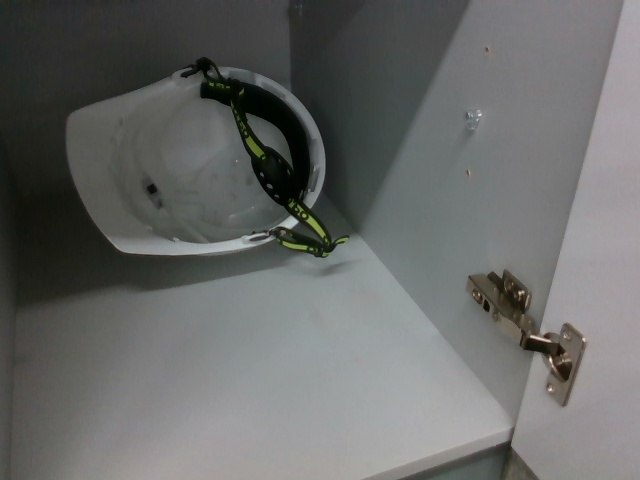helmet: (56, 57, 337, 260)
